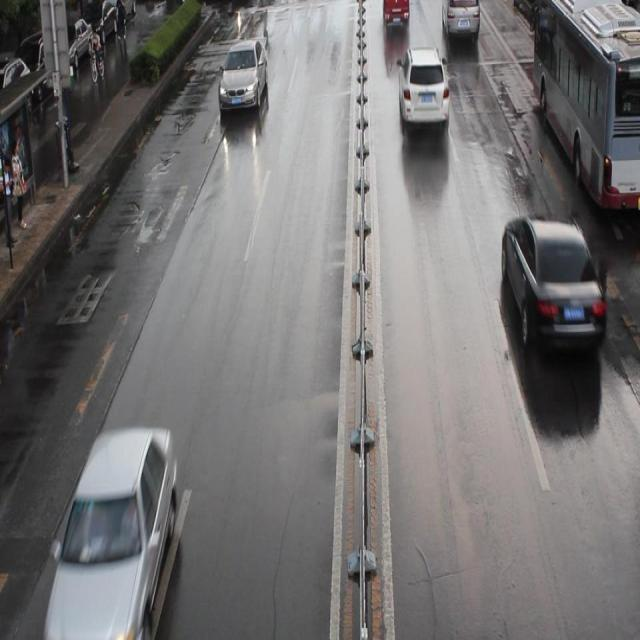car: (46, 423, 177, 640), (500, 212, 604, 352), (398, 46, 449, 125), (218, 38, 268, 114), (381, 1, 409, 24)
truck: (440, 1, 480, 36)
van: (532, 1, 640, 210)
